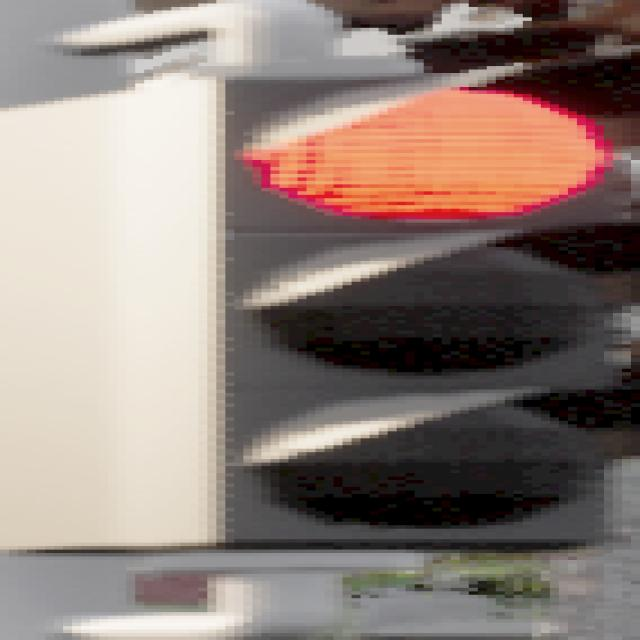red_light: (90, 80, 640, 557)
